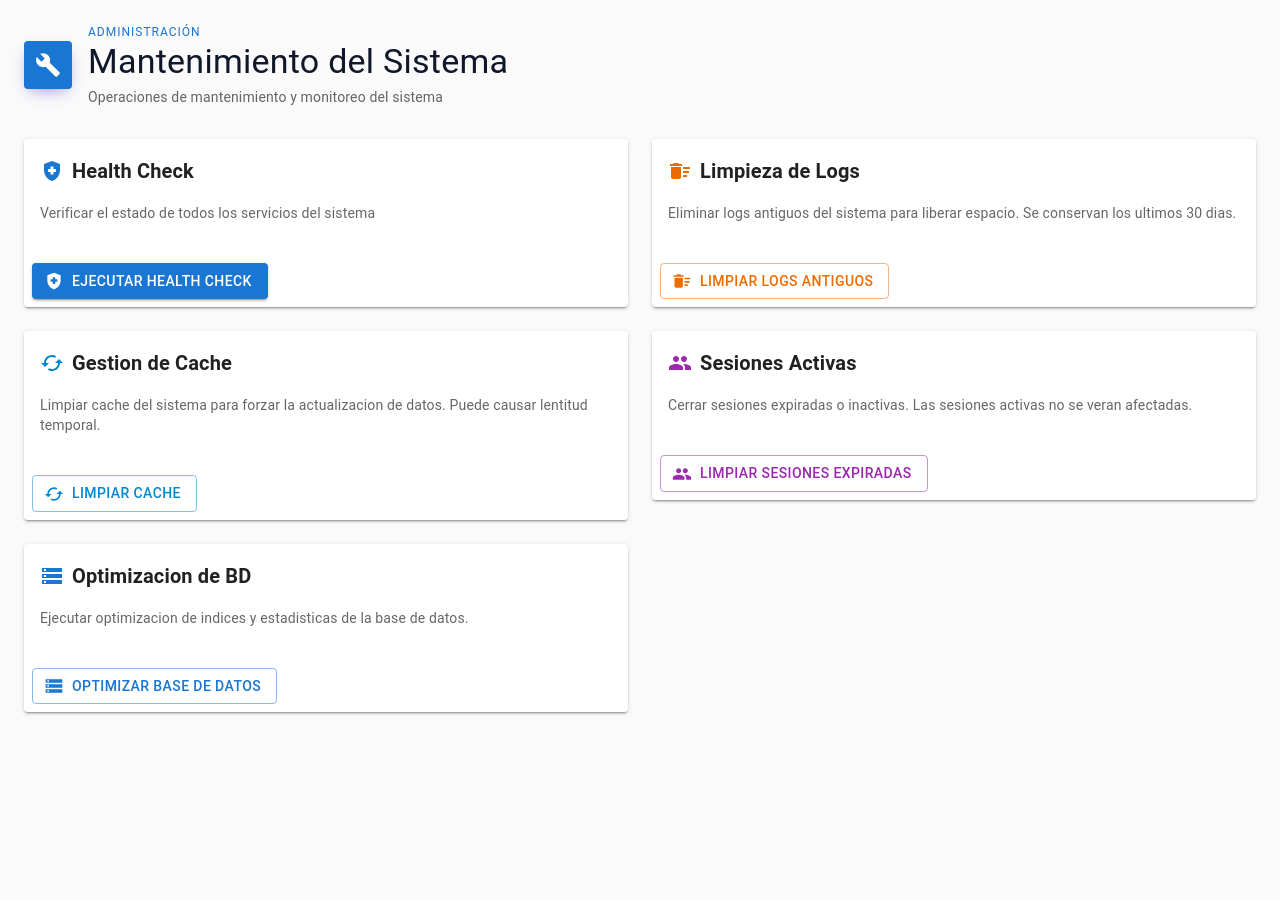
Scenario: AdminMaintenance › should close confirmation dialog on cancel
Open dialog
Click the button "Limpiar Logs Antiguos": click(775, 281) [660, 263, 889, 299]
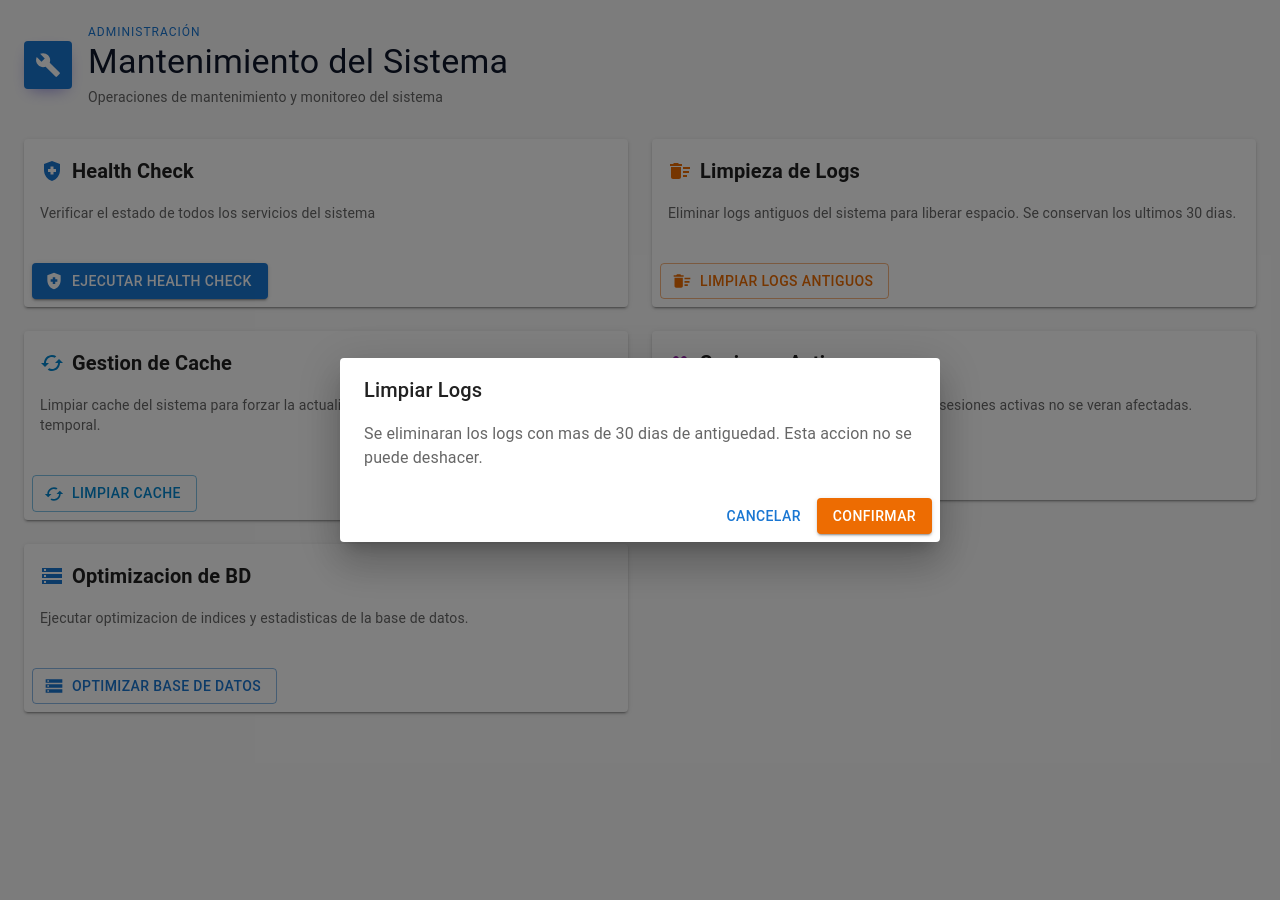
Expected: the heading "Limpiar Logs" is shown, [364, 378, 482, 402]
Click the button "Cancelar": click(764, 516) [718, 498, 809, 534]
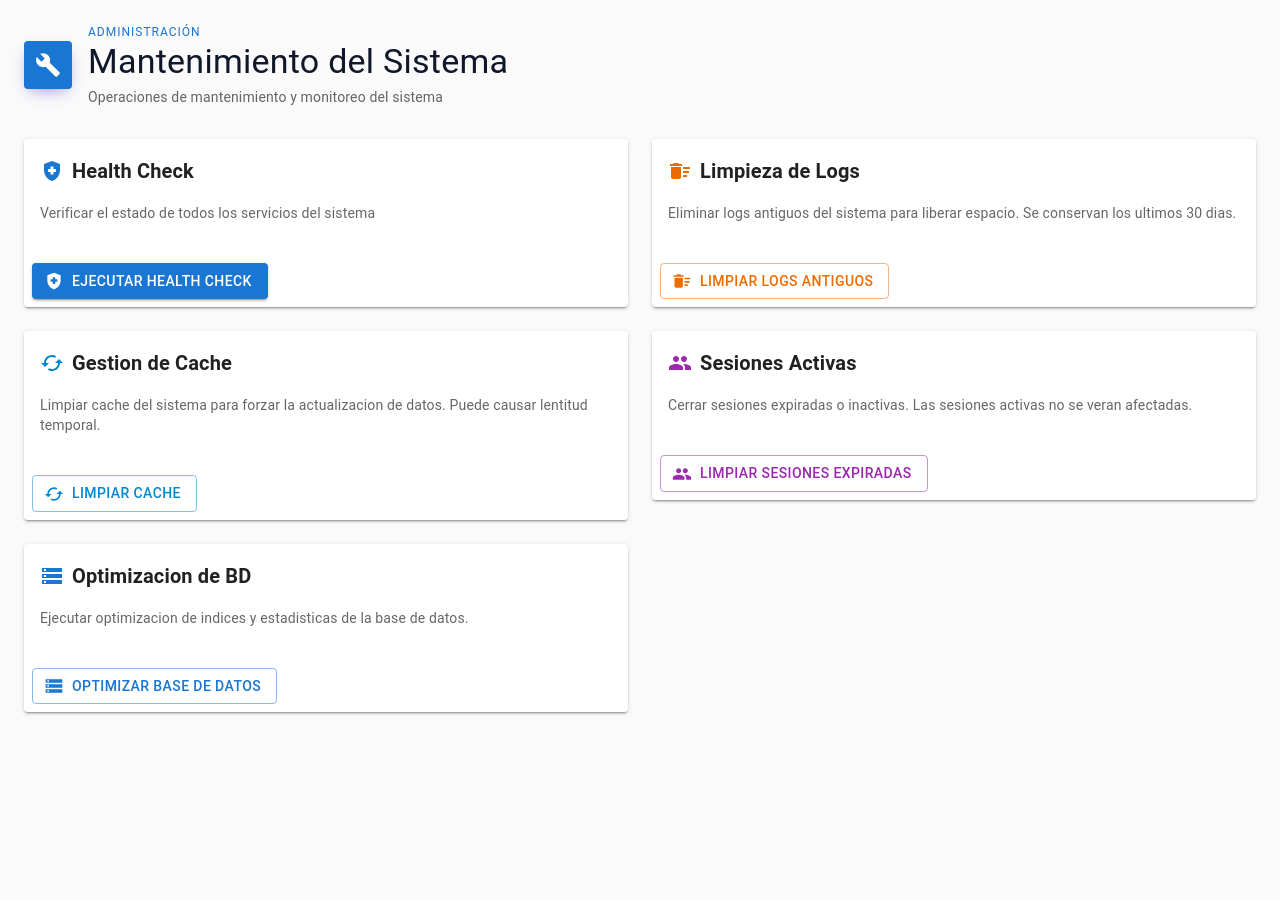
Expected: the text "Se eliminaran los logs" is gone
